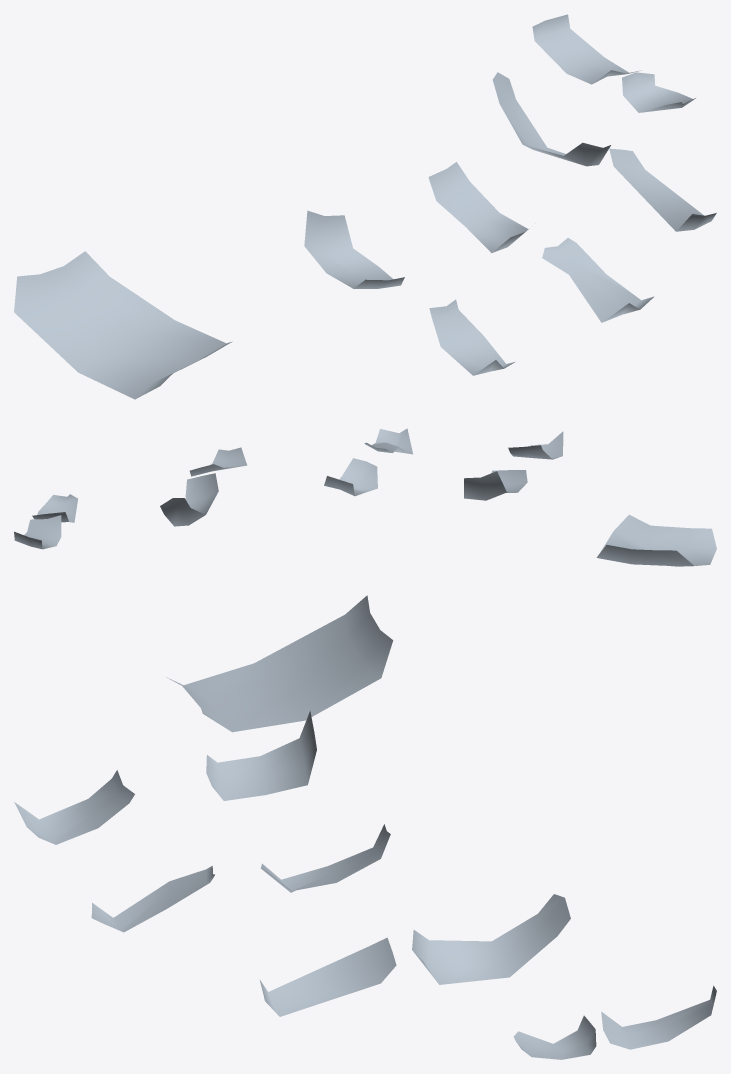
File: plantar-interphalangeal-ligaments-l.glb
3 views of the same model, one above another, from view 1: azimuth 30°, elevation 25°; view 2: azimuth 150°, elevation 25°; view 3: azimuth 270°, elevation 25° (orthographic). The views are drawn at different scales.
Parts seen in each view (by area): view 1: Plantar interphalangeal ligaments.l; view 2: Plantar interphalangeal ligaments.l; view 3: Plantar interphalangeal ligaments.l.
Part boxes in pixels (x1=…): Plantar interphalangeal ligaments.l: x1=14, y1=14, x2=716, y2=399; Plantar interphalangeal ligaments.l: x1=14, y1=428, x2=716, y2=566; Plantar interphalangeal ligaments.l: x1=14, y1=595, x2=716, y2=1059.
Size of the model in its own units: 0.0735 by 0.00891 by 0.0544.
